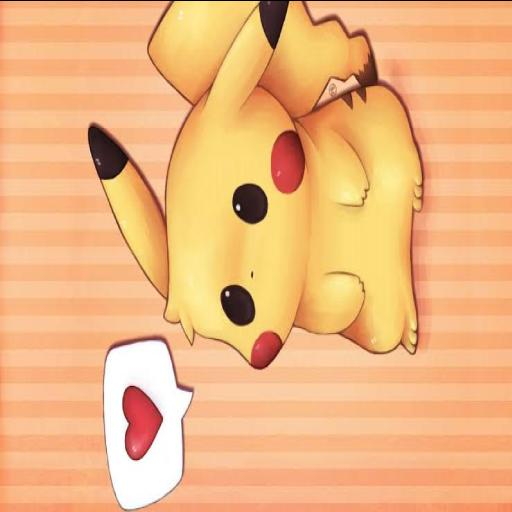Pikachu: (87, 0, 425, 370)
